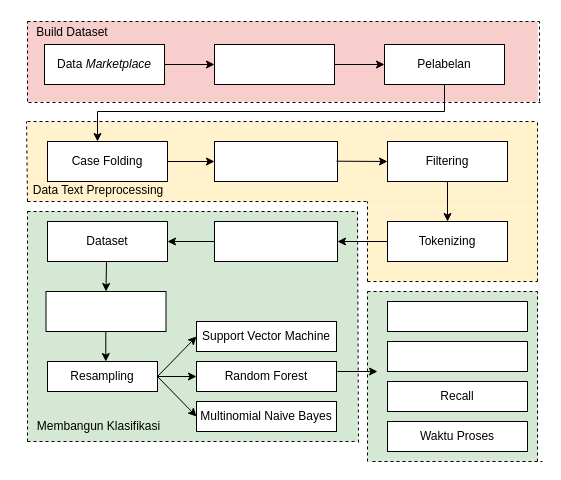
Some shapes in this 561 by 480 pixel diagram are drawn without their labels. The shapes that lost their labels are listed below. From the top down, each one's box as (x1, y1, x2, y2) in pixels, then its label:
(214, 44, 334, 84): Data selection
(214, 140, 338, 182): Cleaning
(214, 220, 338, 262): Ekstraksi Fitur
(45, 290, 166, 332): Split Data
(386, 300, 528, 332): F1-Score
(386, 340, 528, 372): Precision
